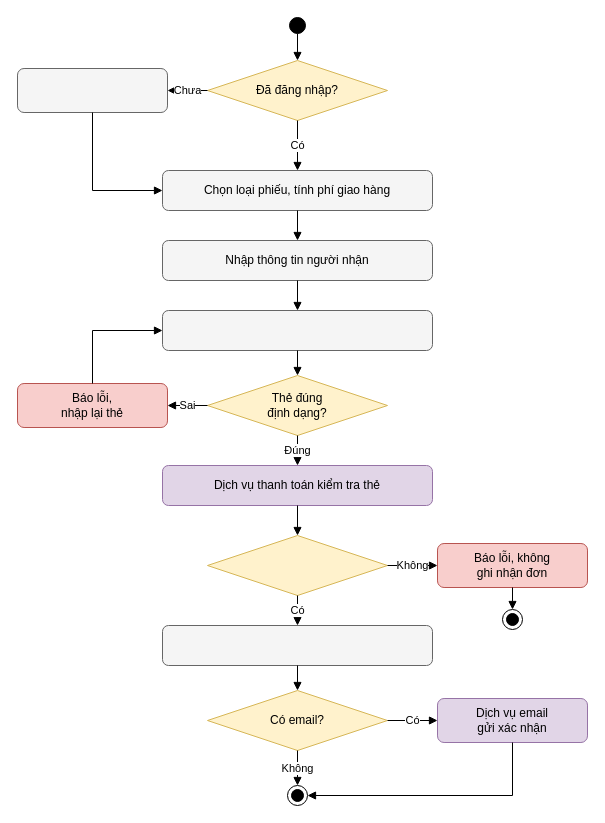
Image size: 605x823. Some labels were removed from this diagram. The shapes that lost their labels are listed below. From the top down, each one's centre as x and y in pixels, then its label:
[92,90]: Đăng nhập / đăng ký
[297,330]: Nhập thông tin thẻ tín dụng
[297,565]: Thanh toán thành công?
[297,645]: Ghi nhận đơn đặt hàng
